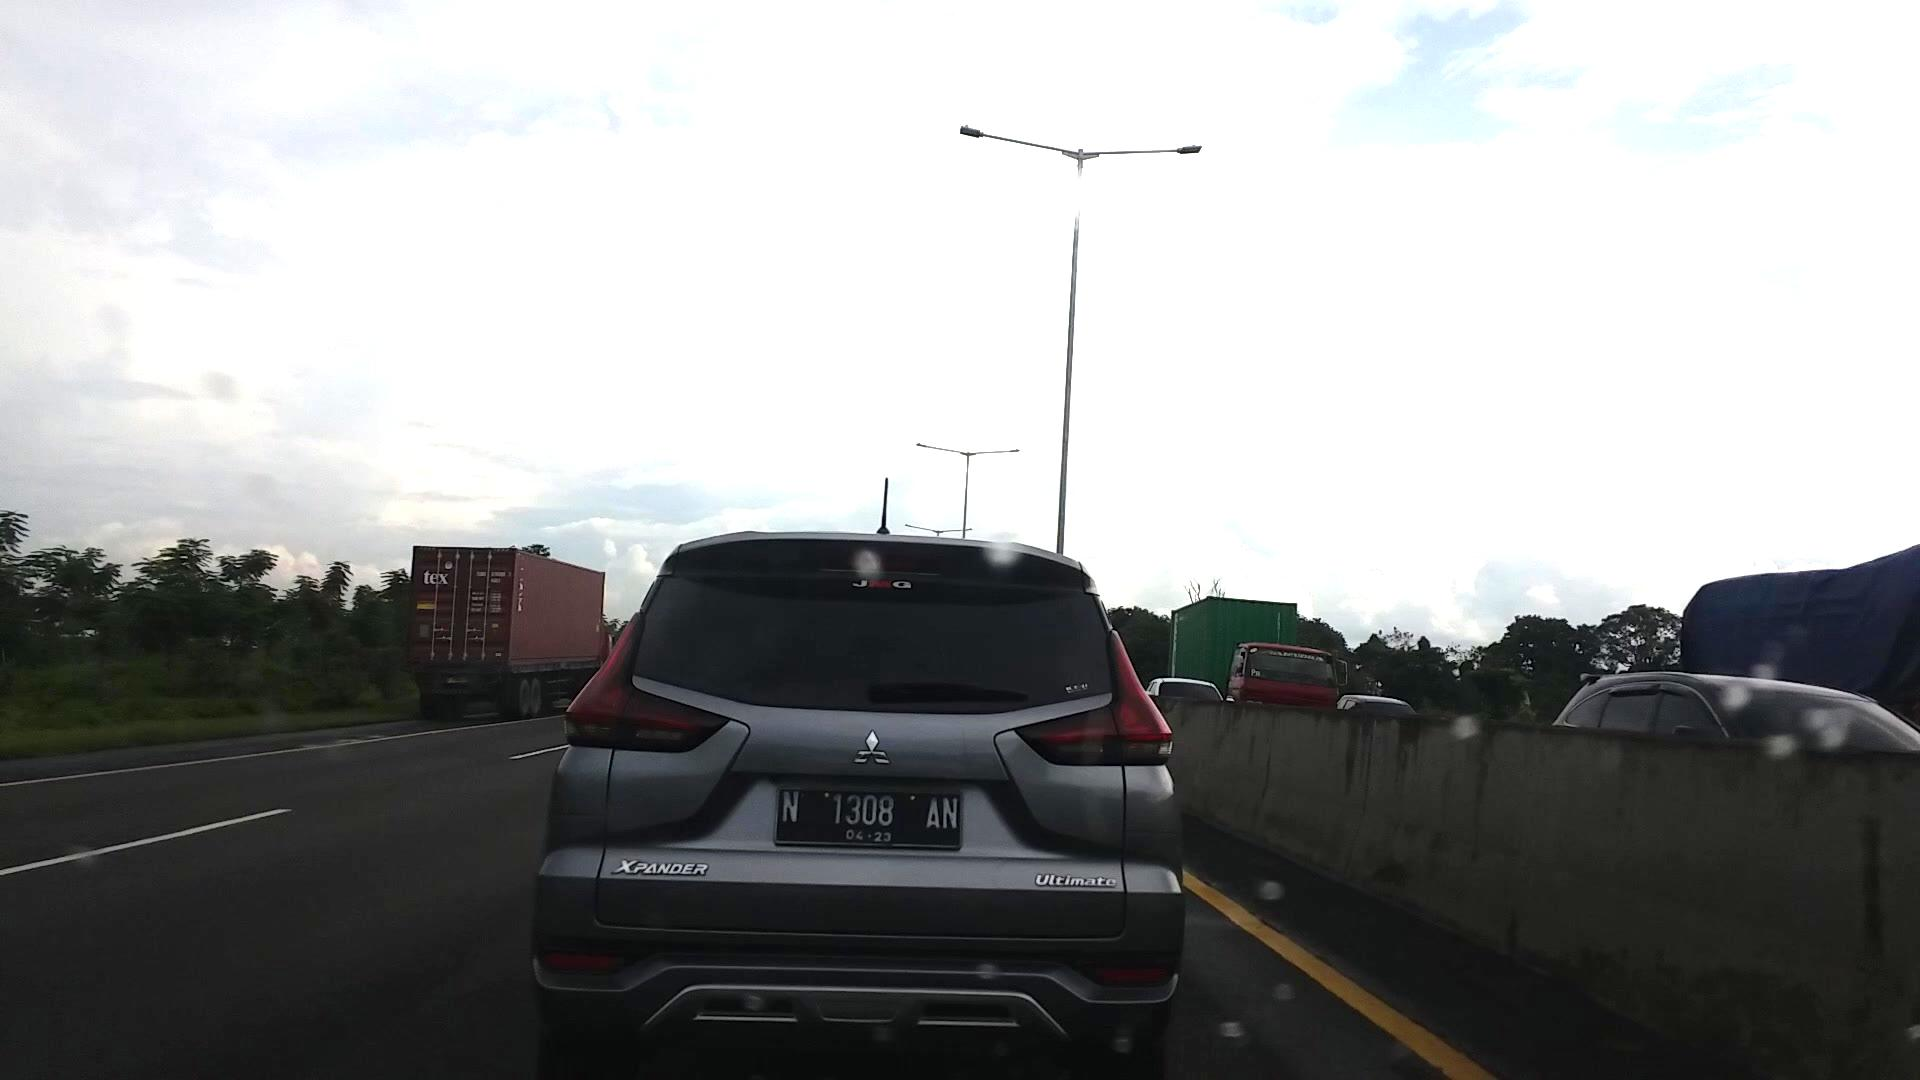plate_positive: (773, 787, 961, 851)
